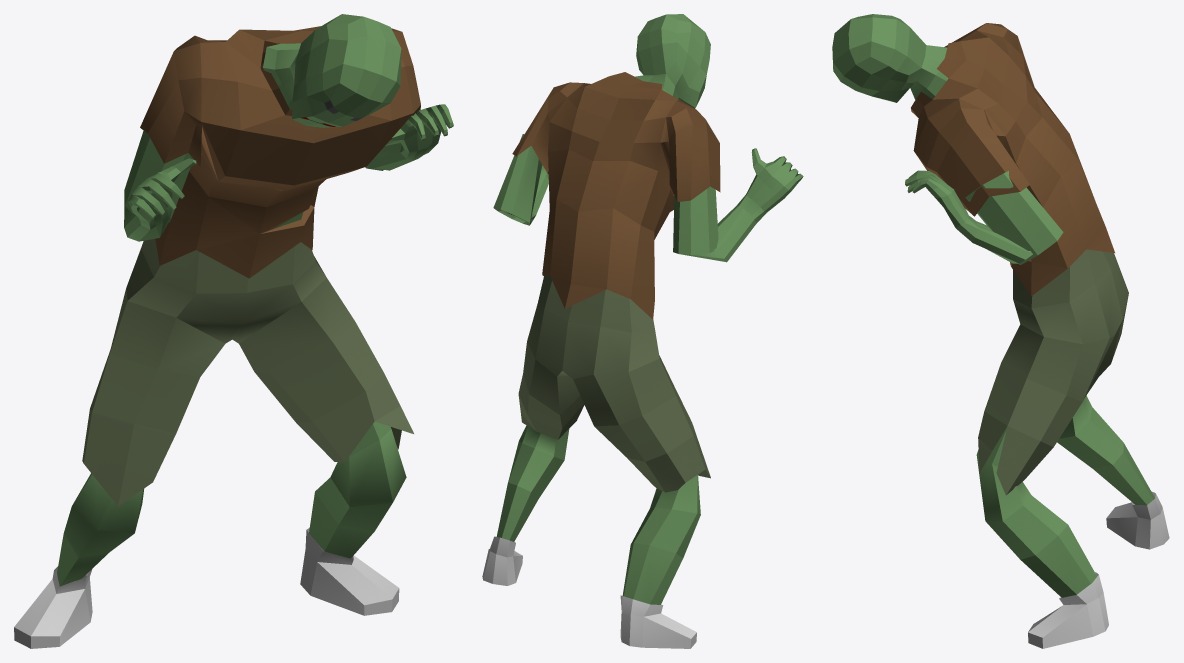
The model's file is ZombieAttack(60).obj.
3 renders of one model, left to right at view 1: azimuth 30°, elevation 25°; view 2: azimuth 150°, elevation 25°; view 3: azimuth 270°, elevation 25°, orthographic. The views are drawn at different scales.
Parts seen in each view (by area): view 1: Object001; view 2: Object001; view 3: Object001.
Part boxes in pixels (bbox=[...]): Object001: bbox=[14, 14, 453, 648]; Object001: bbox=[482, 14, 803, 648]; Object001: bbox=[832, 14, 1169, 648].
Size of the model in its own units: 25.83 by 49.84 by 26.43.
